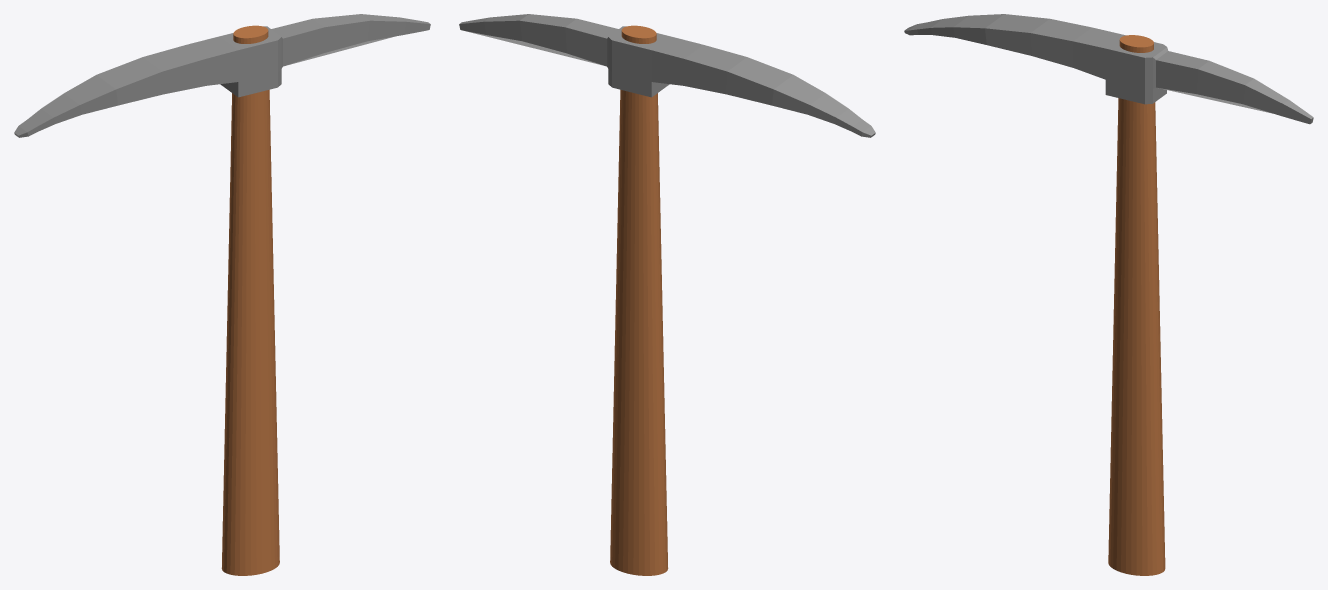
File: pickaxe.fbx
The picture shows the model from 3 angles, left to right: view 1: azimuth 30°, elevation 25°; view 2: azimuth 150°, elevation 25°; view 3: azimuth 330°, elevation 25°; orthographic projection.
Parts seen in each view (by area): view 1: Cylinder.001, Cube.001; view 2: Cylinder.001, Cube.001; view 3: Cylinder.001, Cube.001.
Part boxes in pixels (x1,y1,x2,y2): Cylinder.001: (221, 25, 279, 575); Cube.001: (14, 14, 430, 137); Cylinder.001: (610, 25, 668, 575); Cube.001: (459, 14, 875, 137); Cylinder.001: (1108, 35, 1165, 575); Cube.001: (904, 14, 1313, 124).
Size of the model in its own units: 648 by 800 by 60.66.
